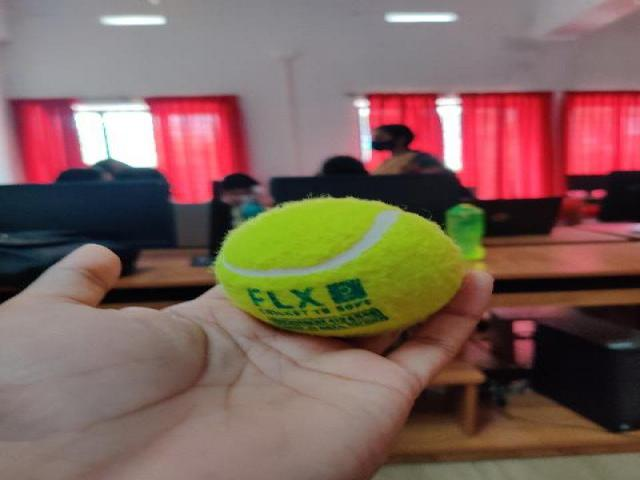tennis-ball: (214, 198, 464, 336)
